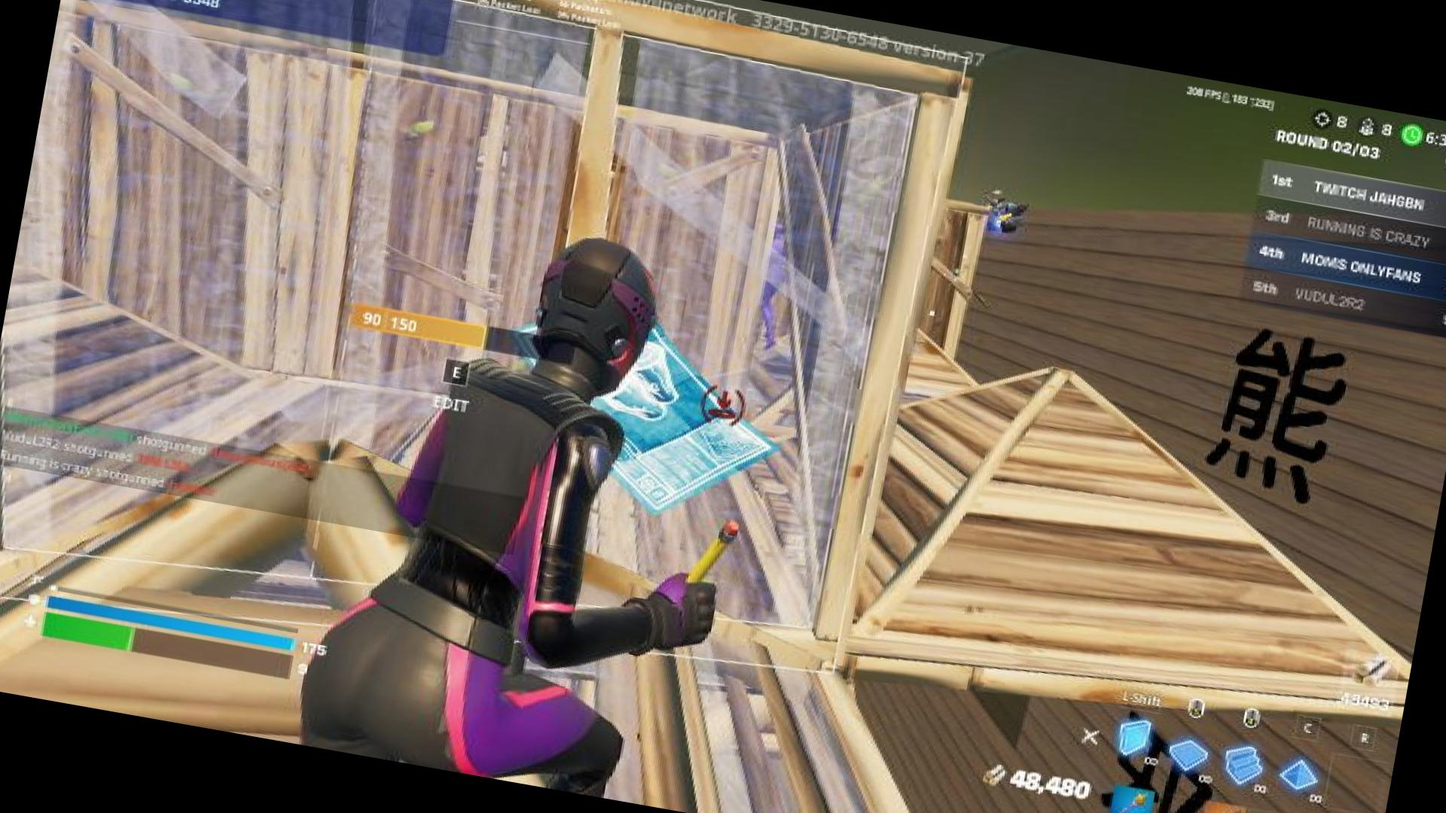player: (734, 220, 826, 350)
